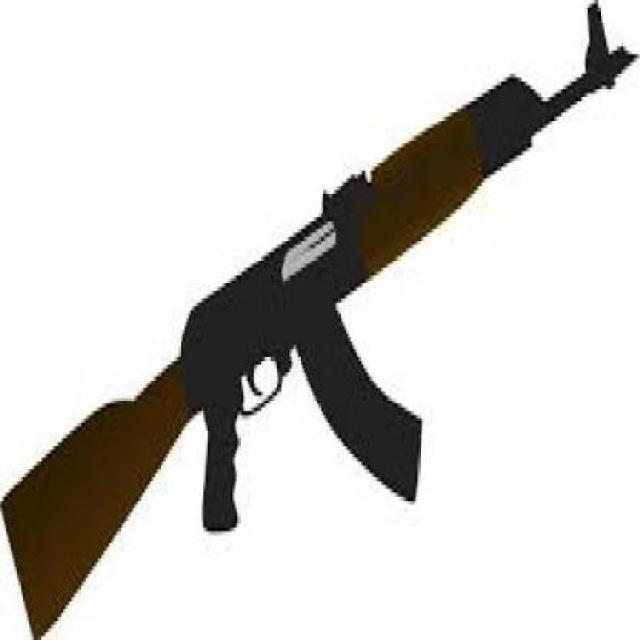weapon: (1, 7, 636, 627)
